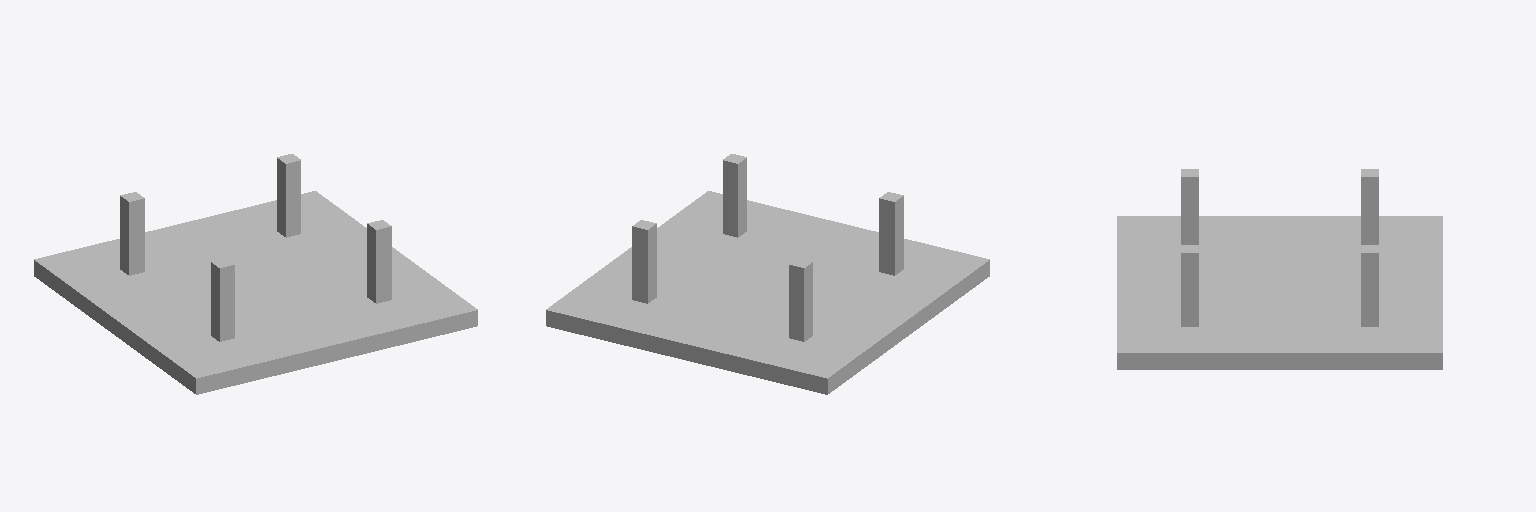
Rendered from table22.obj.
3 renders of one model, left to right at view 1: azimuth 30°, elevation 25°; view 2: azimuth 150°, elevation 25°; view 3: azimuth 270°, elevation 25°, orthographic.
Parts seen in each view (by area): view 1: Cube; view 2: Cube; view 3: Cube.
Boxes of the visible parts, x1=… form: Cube: x1=34, y1=154, x2=477, y2=394; Cube: x1=546, y1=154, x2=989, y2=394; Cube: x1=1117, y1=169, x2=1442, y2=369.
Size of the model in its own units: 90 by 27.5 by 90.